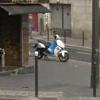Motorcycle: (32, 34, 80, 66)
